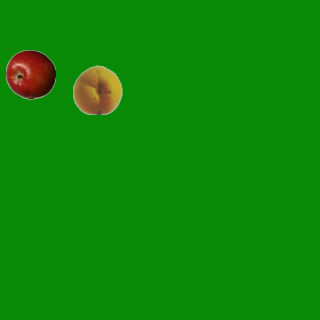Apple Braeburn: (5, 49, 55, 99)
Peach 2: (72, 64, 122, 114)
